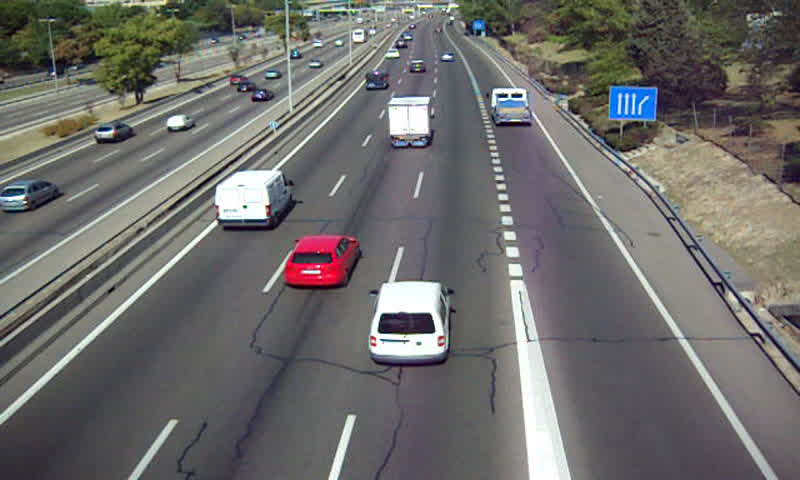car: (368, 280, 452, 363), (281, 234, 358, 289), (408, 59, 426, 75), (440, 52, 456, 64), (385, 47, 400, 59)
small-truck: (386, 95, 433, 147), (489, 87, 532, 125)
van: (216, 170, 293, 229), (362, 70, 389, 93)
